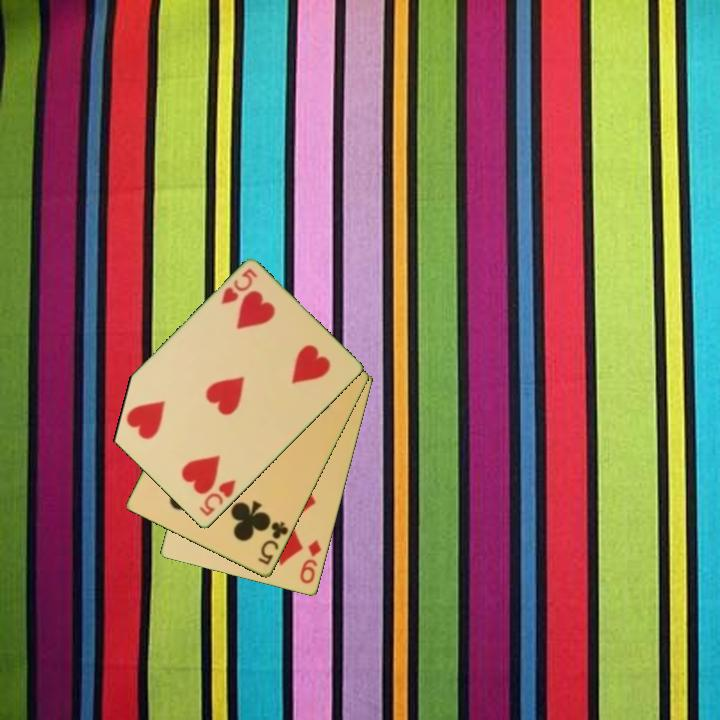5c: (254, 518, 291, 568)
5h: (195, 476, 238, 520), (218, 265, 260, 308)
9d: (296, 536, 325, 587)
